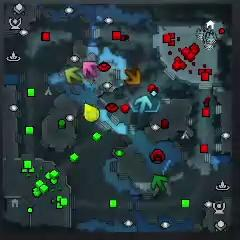p4: (83, 102, 100, 122)
x1: (81, 61, 98, 78)
x2: (65, 66, 83, 83)
x3: (135, 95, 152, 114)
x4: (151, 174, 168, 192)
x5: (125, 69, 142, 86)
